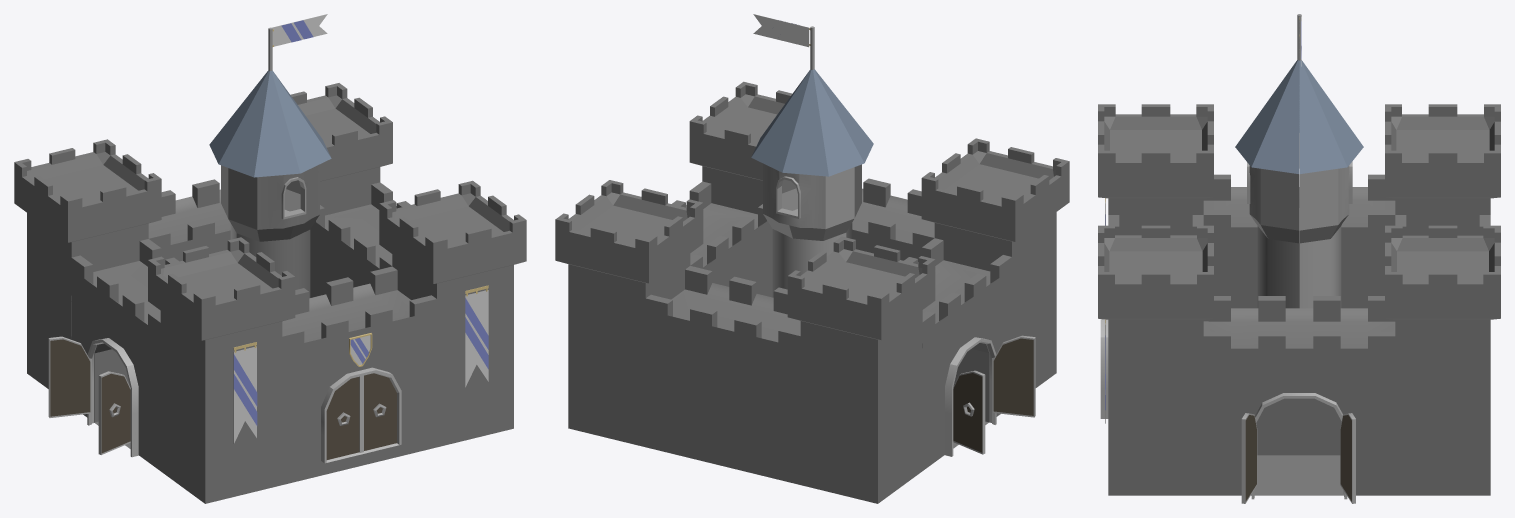
The model's file is castle_blue_08.fbx.
The picture shows the model from 3 angles, left to right: view 1: azimuth 30°, elevation 25°; view 2: azimuth 150°, elevation 25°; view 3: azimuth 270°, elevation 25°; orthographic projection. The views are drawn at different scales.
Visible parts, largest first — view 1: pasted__pCube1, pCube22, pCube1, pCube56, pCube55, pCube47, pCube48, pTorus5, pCube50, pCube28; view 2: pasted__pCube1, pCube22, pCube55, pCube56, pTorus5, pCube50; view 3: pasted__pCube1, pCube22, pCube58, pCube57, pCube1, polySurface1.
Boxes of the visible parts, x1,y1,x2,y2 form: pasted__pCube1: (14,83,526,503); pCube22: (209,27,331,298); pCube1: (321,367,401,463); pCube56: (48,336,90,417); pCube55: (98,371,130,454); pCube47: (233,342,257,443); pCube48: (465,285,488,387); pTorus5: (87,338,138,457); pCube50: (272,14,327,46); pCube28: (349,333,372,366); pasted__pCube1: (555,81,1069,503); pCube22: (751,26,873,297); pCube55: (993,335,1035,417); pCube56: (953,370,985,454); pTorus5: (945,337,996,456); pCube50: (753,14,809,47); pasted__pCube1: (1098,104,1500,495); pCube22: (1235,14,1363,308); pCube58: (1241,413,1257,503); pCube57: (1340,413,1355,503); pCube1: (1100,319,1108,418); polySurface1: (1251,393,1347,499).
Size of the model in its own units: 5.1 by 4.62 by 4.21.
